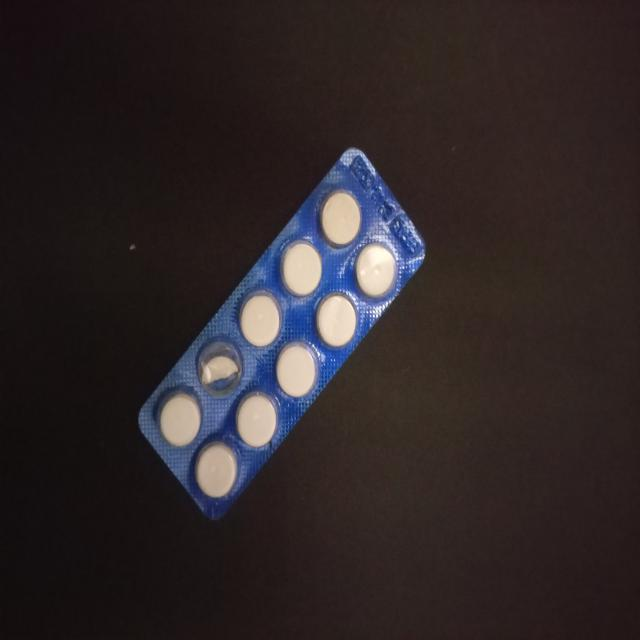defect: (195, 338, 244, 399)
